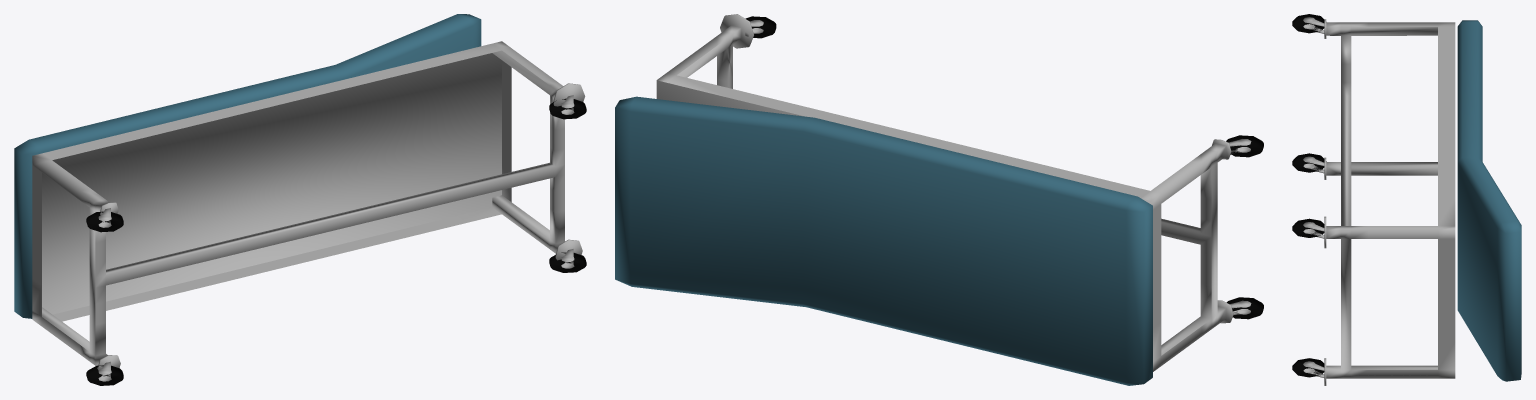
3 renders of one model, left to right at view 1: azimuth 30°, elevation 25°; view 2: azimuth 150°, elevation 25°; view 3: azimuth 270°, elevation 25°, orthographic. The views are drawn at different scales.
Visible parts, largest first — view 1: Cube.001; view 2: Cube.001; view 3: Cube.001.
Part boxes in pixels (x1,y1,x2,y2): Cube.001: [14, 14, 586, 385]; Cube.001: [615, 14, 1263, 385]; Cube.001: [1292, 14, 1521, 385].
Bounding box in the file's own units: 210 × 72.99 × 90.93.
